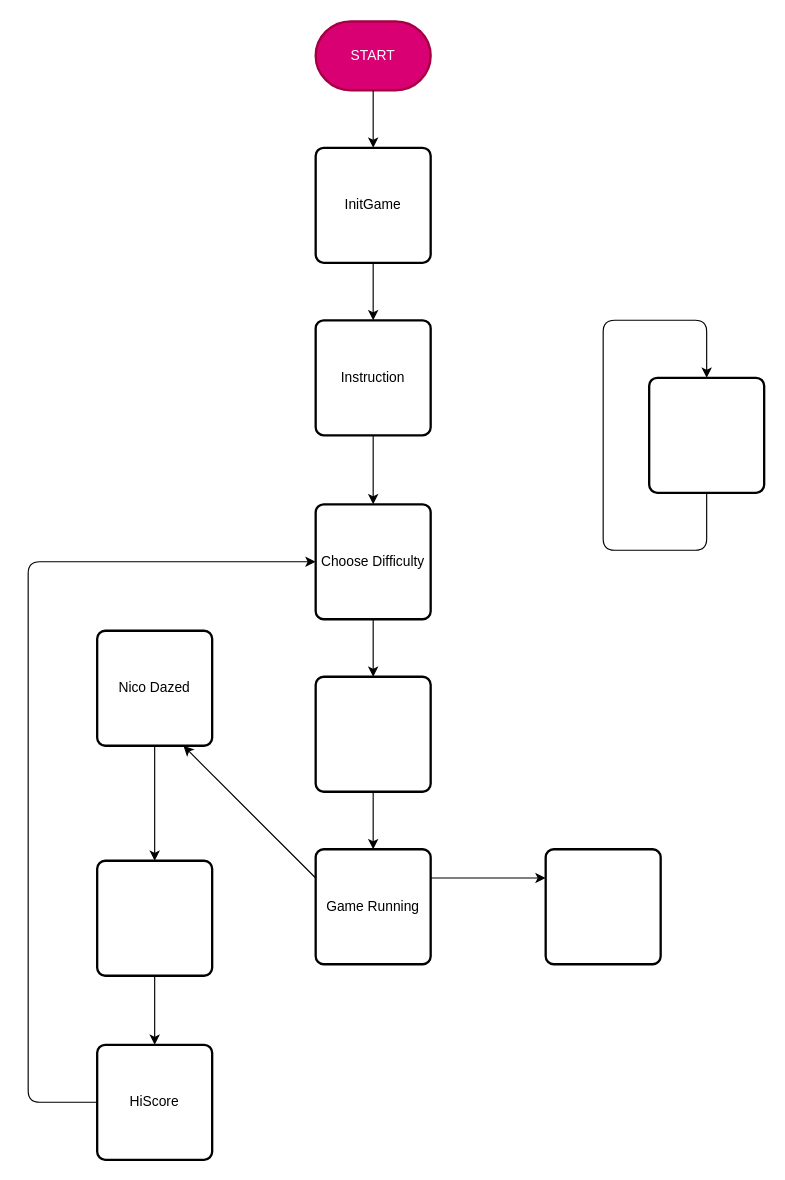
The diagram is 785 pixels wide and 1180 high, and some of its shapes have lost their labels. Each missing label, with the centre of its shape:
Game Ended: (154,917)
Game Paused: (602,906)
Init Game Play: (372,733)
